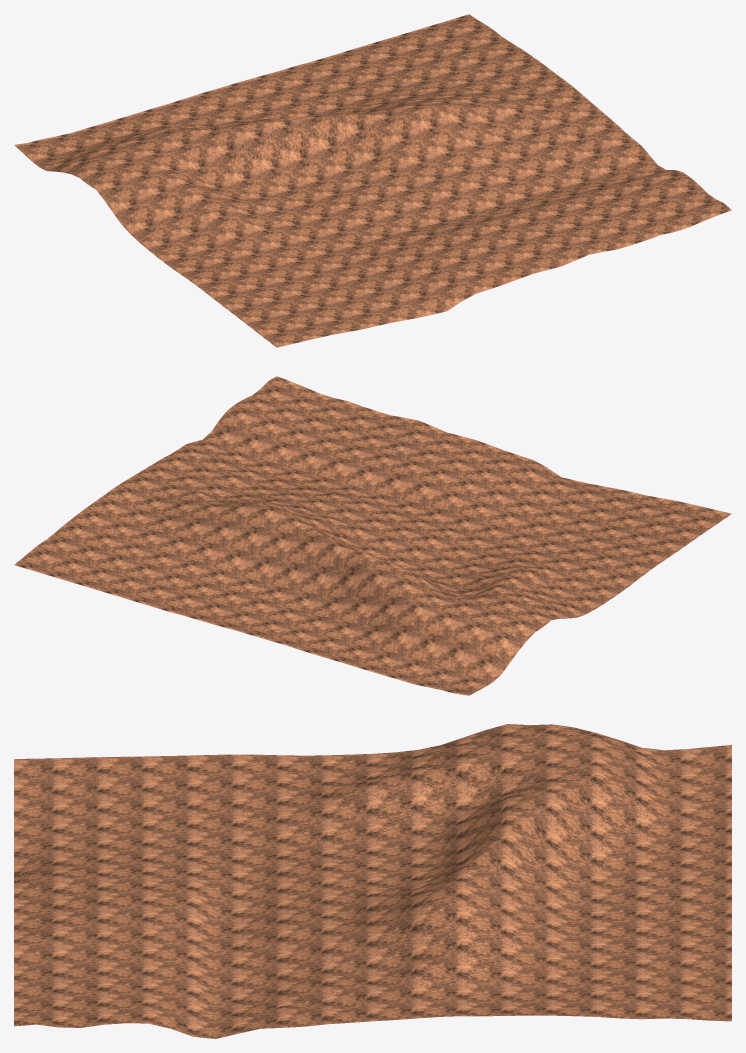
File: terrain_04_09.dae
3 views of the same model, one above another, from view 1: azimuth 30°, elevation 25°; view 2: azimuth 150°, elevation 25°; view 3: azimuth 270°, elevation 25° (orthographic). The views are drawn at different scales.
Visible parts, largest first — view 1: terrain_04_09-node; view 2: terrain_04_09-node; view 3: terrain_04_09-node.
Boxes of the visible parts, <box> form: terrain_04_09-node: <box>14,14,731,347</box>; terrain_04_09-node: <box>14,376,731,695</box>; terrain_04_09-node: <box>14,724,731,1038</box>.
Size of the model in its own units: 128 by 128 by 14.72.
Materials: 1 (1 with a texture image).
